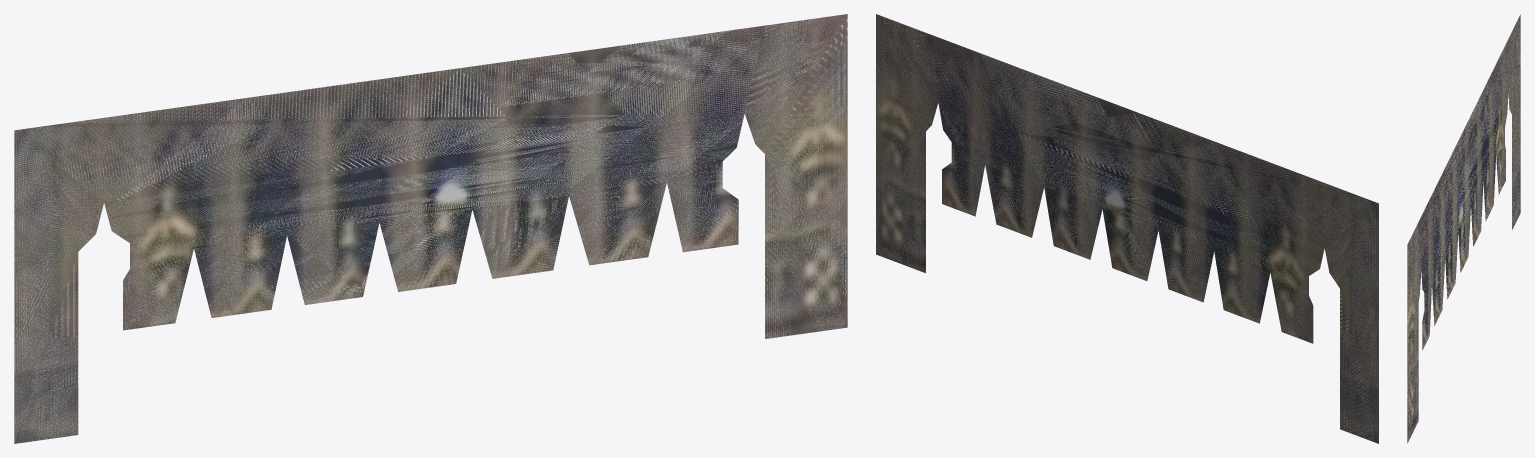
Rendered from 大本钟175.dae.
3 renders of one model, left to right at view 1: azimuth 30°, elevation 25°; view 2: azimuth 150°, elevation 25°; view 3: azimuth 270°, elevation 25°, orthographic. The views are drawn at different scales.
Visible parts, largest first — view 1: SketchUp; view 2: SketchUp; view 3: SketchUp.
Boxes of the visible parts, x1=… form: SketchUp: x1=14, y1=14, x2=847, y2=443; SketchUp: x1=876, y1=14, x2=1378, y2=443; SketchUp: x1=1407, y1=14, x2=1520, y2=443.
Bounding box in the file's own units: 417 × 86.52 × 168.
2 materials, 1 textured.
